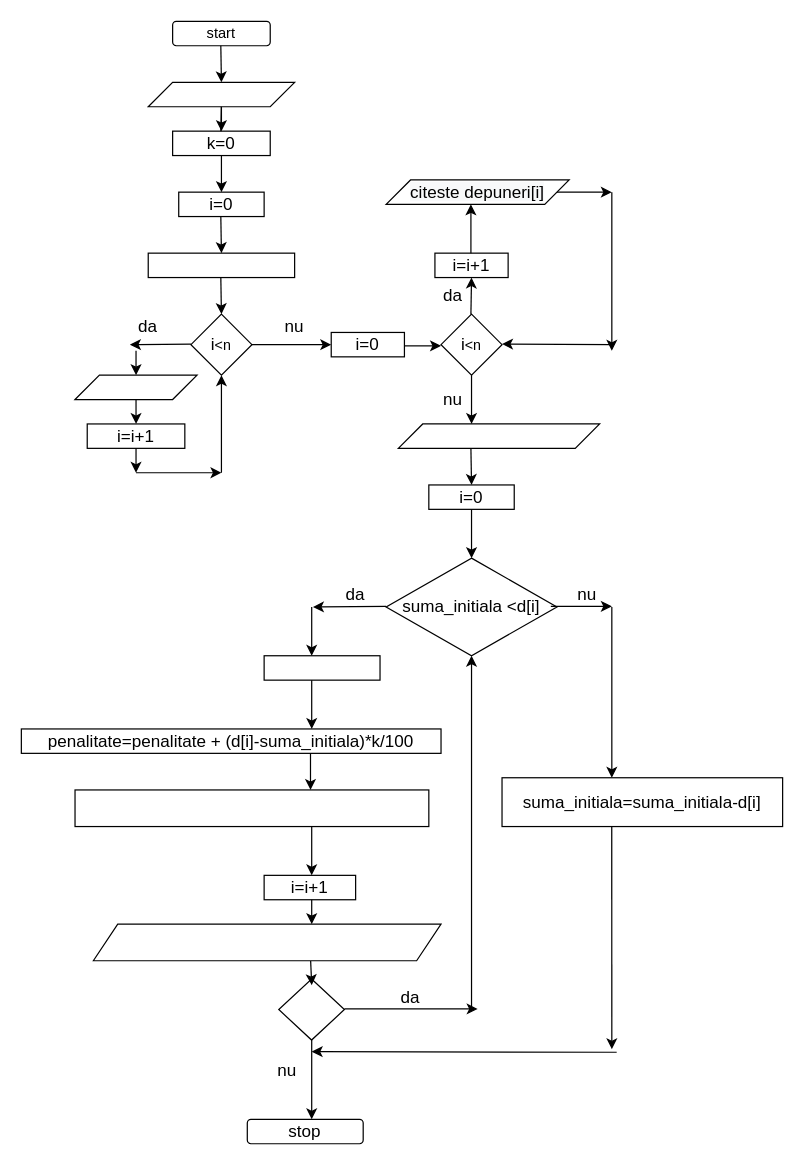
Some shapes in this 804 by 1165 pixel diagram are drawn without their labels. Here are the shapes that lost their labels. From the top down, the centre of each, then its label:
At (x=221, y=94): "citeste n".
At (x=221, y=265): "penalitate = 0".
At (x=135, y=387): "citeste d[i]".
At (x=498, y=435): "citeste suma_initiala".
At (x=321, y=667): "k=k+1".
At (x=251, y=808): "suma_initiala=suma_initiala - d[i] - penalitate".
At (x=266, y=942): "Afiseaza penalitatea, luna, suma initiala".
At (x=311, y=1009): "i<n".
